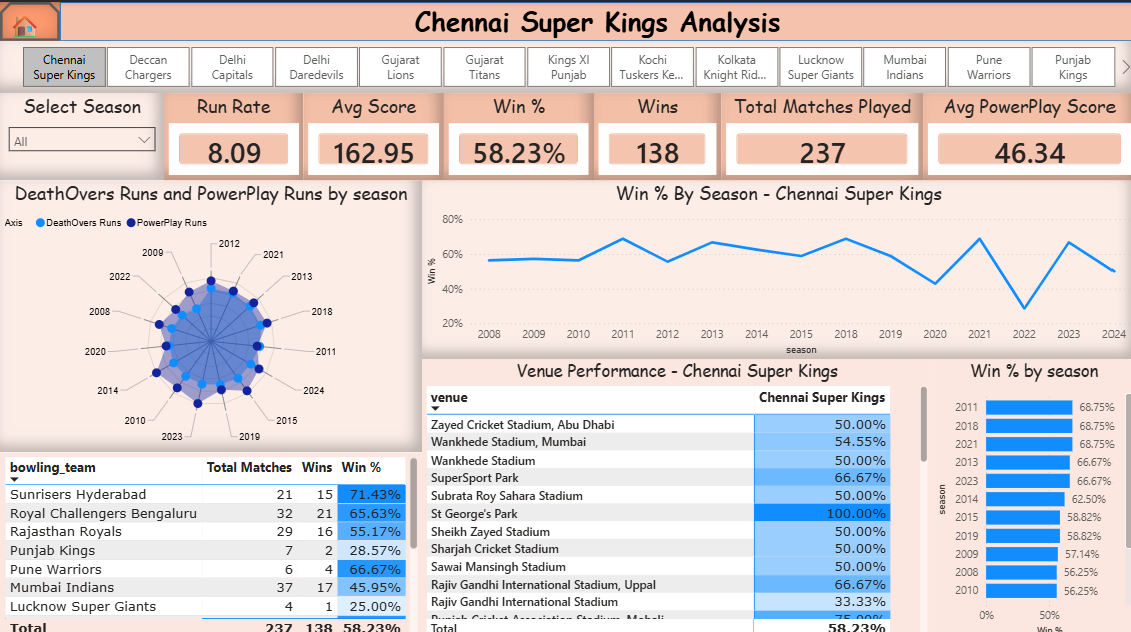

This screenshot's page, from the dashboard's own definition file:
{"tool":"powerbi","page":{"name":"Team Analytics","canvas":[1280,720],"ordinal":2},"visuals":[{"type":"slicer","title":"Select Team ","fields":{"Values":["deliveries.batting_team"]},"box":[0,44,1279.6,58.7],"z":0},{"type":"cardVisual","title":"Total Matches Played","fields":{"Data":["deliveries.Total Matches"]},"box":[813,102.7,227.5,98.3],"z":1000},{"type":"cardVisual","title":"Wins","fields":{"Data":["matches.Wins"]},"box":[669.2,102.7,143.8,98.3],"z":2000},{"type":"cardVisual","title":"Win %","fields":{"Data":["matches.Win %"]},"box":[500.4,102.7,168.8,98.3],"z":3000},{"type":"cardVisual","title":"Avg Score","fields":{"Data":["deliveries.Avg Match Score"]},"box":[341.9,102.7,158.5,98.3],"z":4000},{"type":"cardVisual","title":"Avg PowerPlay Score","fields":{"Data":["deliveries.Avg Match Score"]},"box":[1040.4,102.7,239.2,98.3],"z":5000},{"type":"slicer","title":"Select Season ","fields":{"Values":["matches.season"]},"box":[0,102.7,184.9,98.3],"z":6000},{"type":"RadarChart1446119667547","fields":{"Category":["matches.season"],"Y":["deliveries.DeathOvers Runs","deliveries.PowerPlay Runs"]},"box":[0,201,475.5,306.7],"z":7000},{"type":"cardVisual","title":"Run Rate","fields":{"Data":["deliveries.Run Rate"]},"box":[184.9,102.7,157,98.3],"z":8000},{"type":"lineChart","fields":{"Category":["matches.season"],"Y":["matches.Win %"]},"box":[475.5,201,804.2,201],"z":9000},{"type":"pivotTable","fields":{"Rows":["matches.venue"],"Values":["matches.Win %"],"Columns":["deliveries.batting_team"]},"box":[475.5,402.1,575.2,318.4],"z":10000},{"type":"shape","box":[67.5,0,1212.1,44],"z":11000},{"type":"tableEx","fields":{"Values":["deliveries.bowling_team","deliveries.Total Matches","matches.Wins","matches.Win %"]},"box":[0,507.7,475.5,212.8],"z":12000},{"type":"barChart","fields":{"Category":["matches.season"],"Y":["matches.Win %"]},"box":[1050,402,229,318],"z":13000},{"type":"actionButton","box":[0,0,67.5,44],"z":14000}]}

Visuals, with their boxes in screenshot pixels (x1, y1, x2, y2), scaled from the page's 1280x720 canvas onto the 1131x632 screenshot:
"Select Team " slicer: [x1=0, y1=39, x2=1130, y2=90]
"Total Matches Played" cardVisual: [x1=718, y1=90, x2=919, y2=176]
"Wins" cardVisual: [x1=591, y1=90, x2=718, y2=176]
"Win %" cardVisual: [x1=442, y1=90, x2=591, y2=176]
"Avg Score" cardVisual: [x1=302, y1=90, x2=442, y2=176]
"Avg PowerPlay Score" cardVisual: [x1=919, y1=90, x2=1130, y2=176]
"Select Season " slicer: [x1=0, y1=90, x2=163, y2=176]
RadarChart1446119667547 - matches.season x deliveries.DeathOvers Runs: [x1=0, y1=176, x2=420, y2=446]
"Run Rate" cardVisual: [x1=163, y1=90, x2=302, y2=176]
lineChart - matches.season x matches.Win %: [x1=420, y1=176, x2=1130, y2=353]
pivotTable - matches.venue x matches.Win %: [x1=420, y1=353, x2=928, y2=631]
shape: [x1=60, y1=0, x2=1130, y2=39]
tableEx - deliveries.bowling_team x deliveries.Total Matches: [x1=0, y1=446, x2=420, y2=631]
barChart - matches.season x matches.Win %: [x1=928, y1=353, x2=1130, y2=631]
actionButton: [x1=0, y1=0, x2=60, y2=39]
